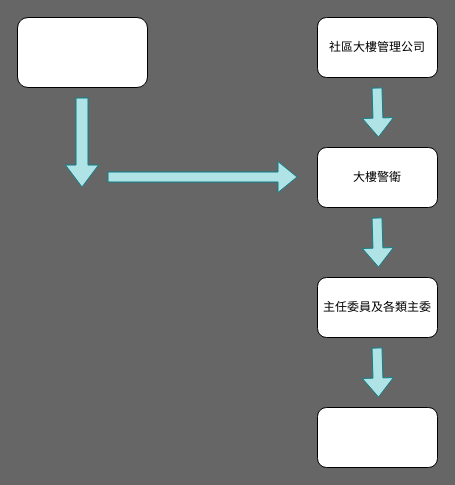
This 455x485 diagram has some shape labels left out. The box of each missing label's shape, as (x1, y1, x2, y2) in pixels:
社區大樓住戶: (16, 16, 148, 88)
貨運/郵政公司: (316, 406, 438, 468)
